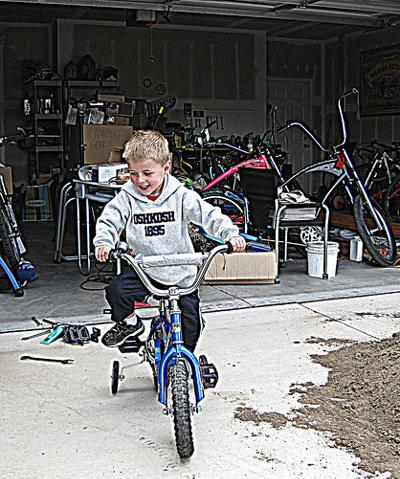person: (93, 130, 247, 373)
